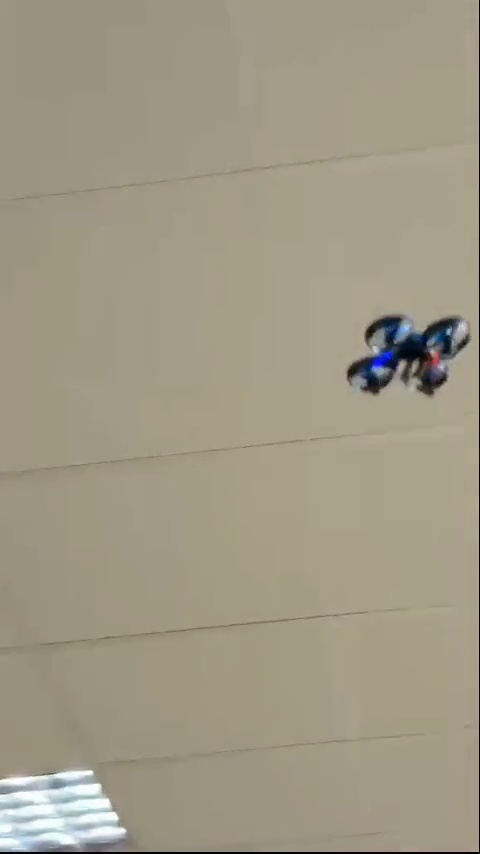drone: (343, 313, 475, 394)
